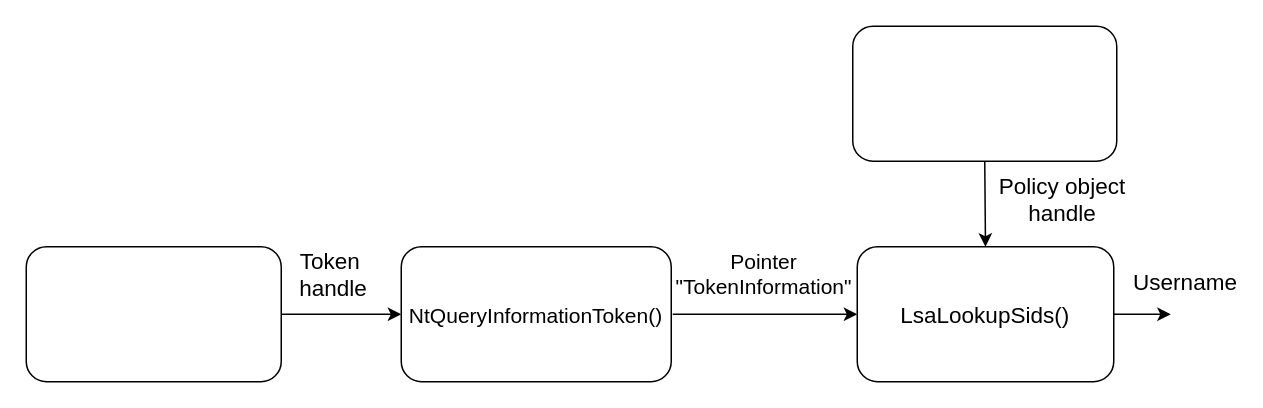
The diagram is 1263 pixels wide and 408 high, and some of its shapes have lost their labels. Each missing label, with the box of its shape:
LsaOpenPolicy(): (851, 25, 1117, 161)
NtOpenProcessToken(): (25, 245, 281, 382)
